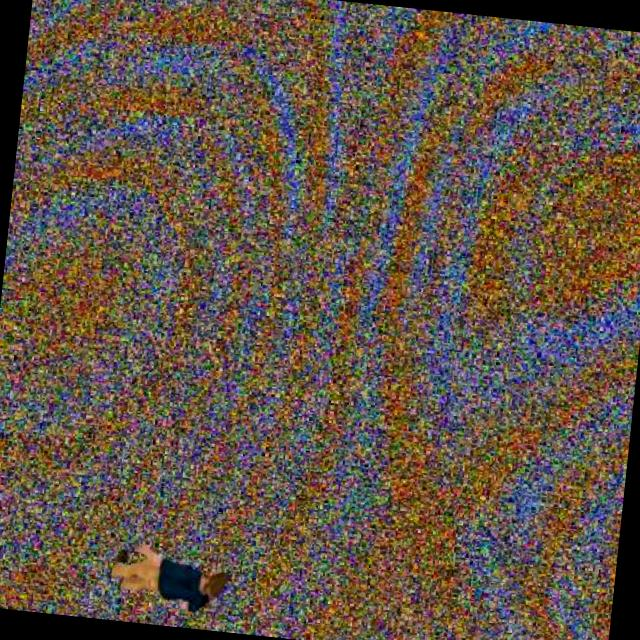Person: (100, 535, 236, 621)
